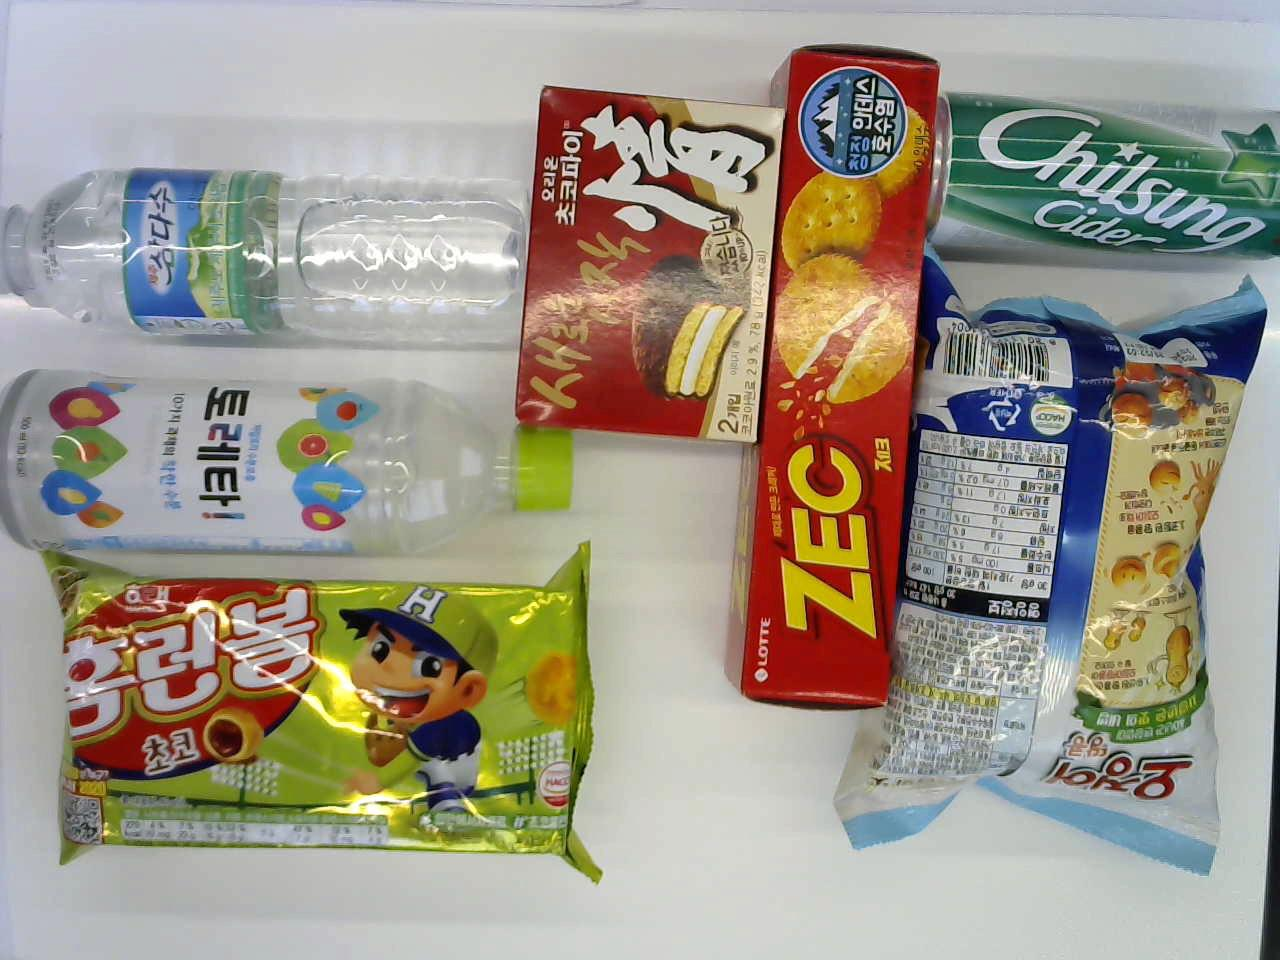chocopie: (512, 83, 777, 464)
cidar: (922, 83, 1280, 270)
homerunball: (43, 556, 598, 880)
samdasu: (0, 171, 532, 346)
squid_peanut: (904, 249, 1271, 880)
toreta: (9, 360, 572, 545)
zec: (727, 32, 952, 713)
